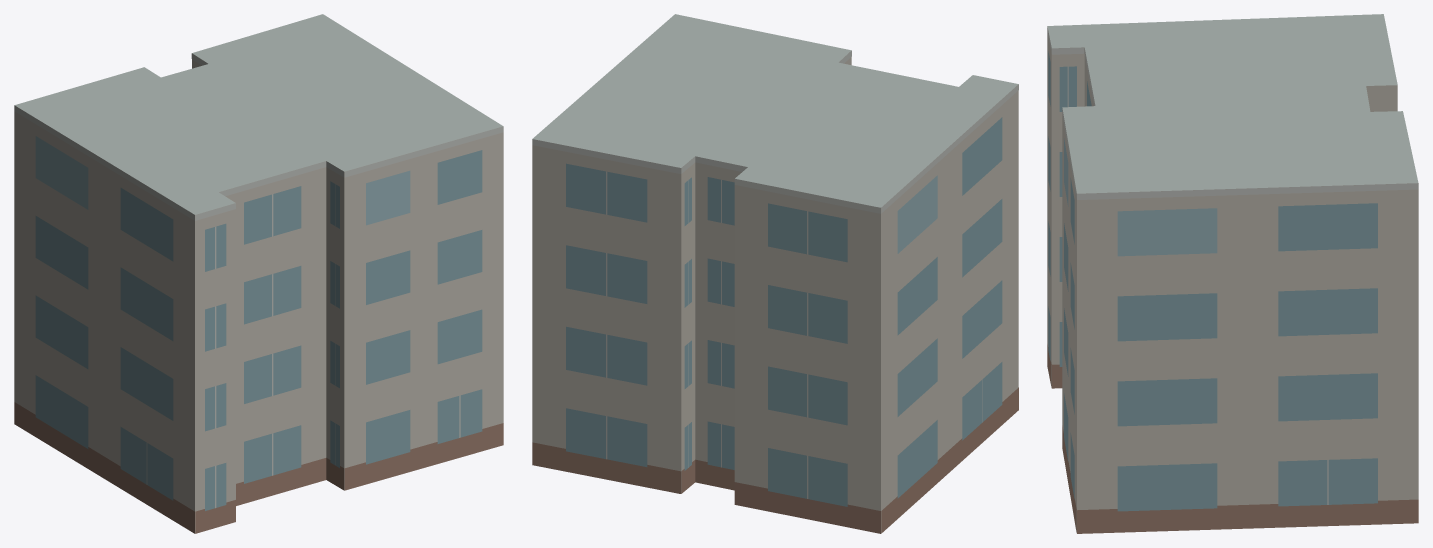
File: survey-upis-32700874.glb
3 views of the same model, side by side, from view 1: azimuth 30°, elevation 25°; view 2: azimuth 150°, elevation 25°; view 3: azimuth 270°, elevation 25° (orthographic). The views are drawn at different scales.
Visible parts, largest first — view 1: survey-upis-32700874.tmp; view 2: survey-upis-32700874.tmp; view 3: survey-upis-32700874.tmp.
Part boxes in pixels (left/top/right/bottom): survey-upis-32700874.tmp: left=14, top=14, right=503, bottom=533; survey-upis-32700874.tmp: left=532, top=14, right=1018, bottom=533; survey-upis-32700874.tmp: left=1047, top=14, right=1418, bottom=533.
Bounding box in the file's own units: 14.68 × 12.95 × 12.82.
